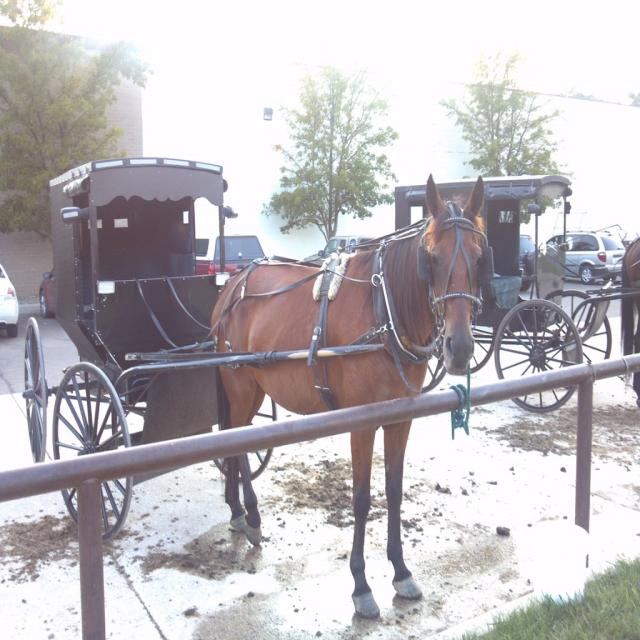Horse: (212, 173, 486, 616), (620, 236, 640, 408)
